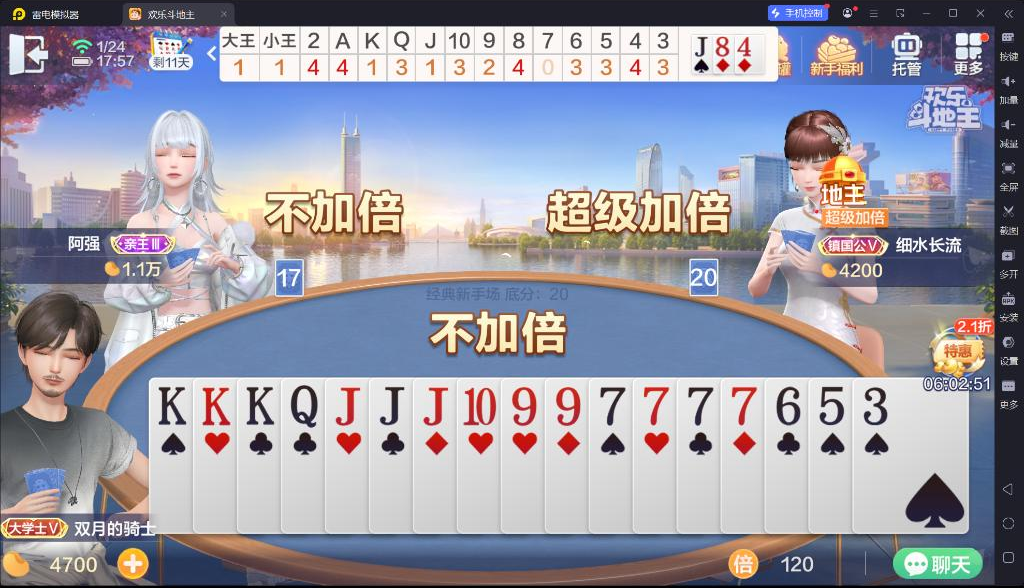J: (330, 384, 362, 427), (419, 384, 451, 427), (375, 384, 407, 426), (692, 35, 710, 58)
K: (199, 384, 234, 428), (155, 384, 189, 428), (242, 384, 276, 427)
Q: (286, 383, 320, 429)
eight: (715, 36, 731, 57)
five: (814, 382, 848, 428)
four: (735, 36, 753, 58)
nine: (552, 384, 584, 427), (509, 384, 540, 427)
seven: (637, 383, 671, 428), (726, 383, 758, 427), (595, 384, 627, 428), (684, 383, 714, 428)
six: (772, 383, 803, 428)
ten: (460, 384, 497, 427)
three: (861, 384, 891, 428)
